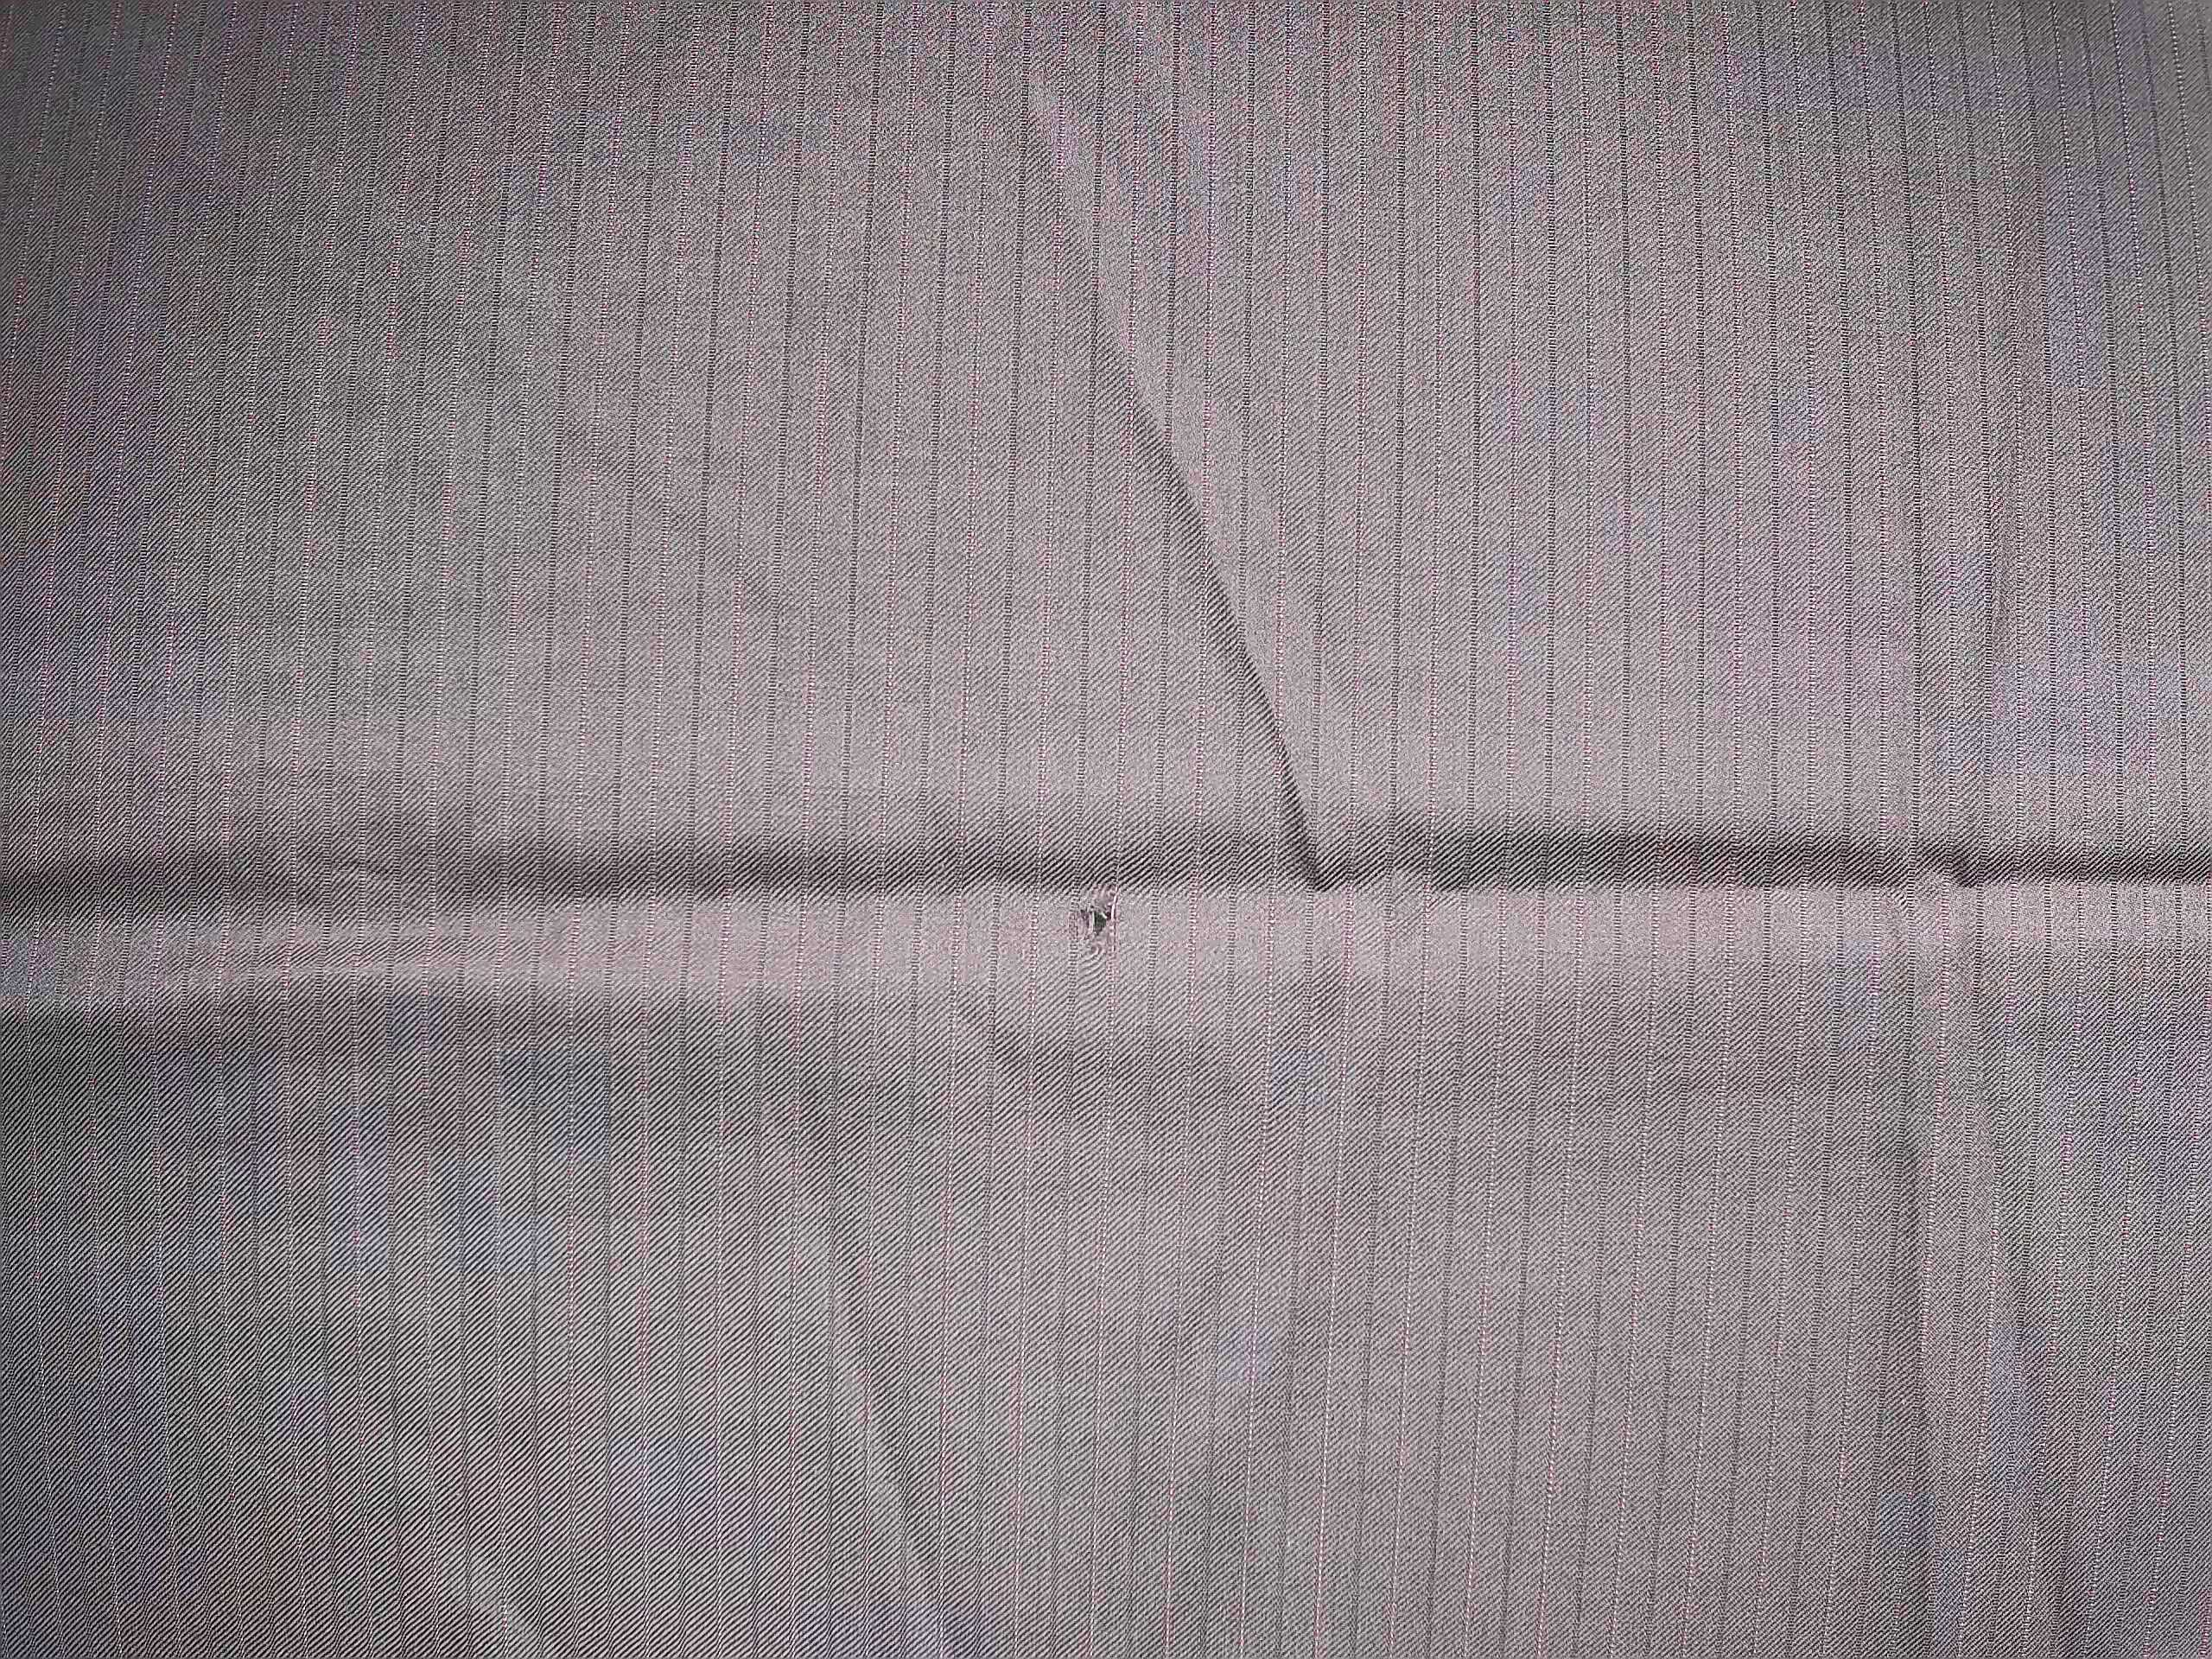rubbing-hole: (1043, 873, 1150, 978)
